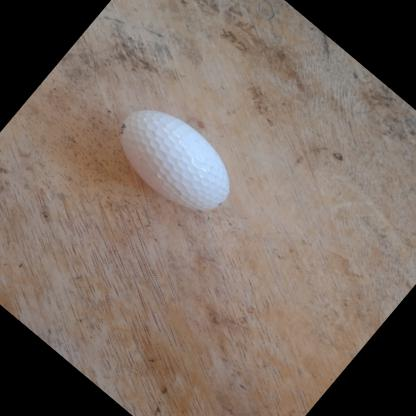Golf: (94, 84, 254, 237)
